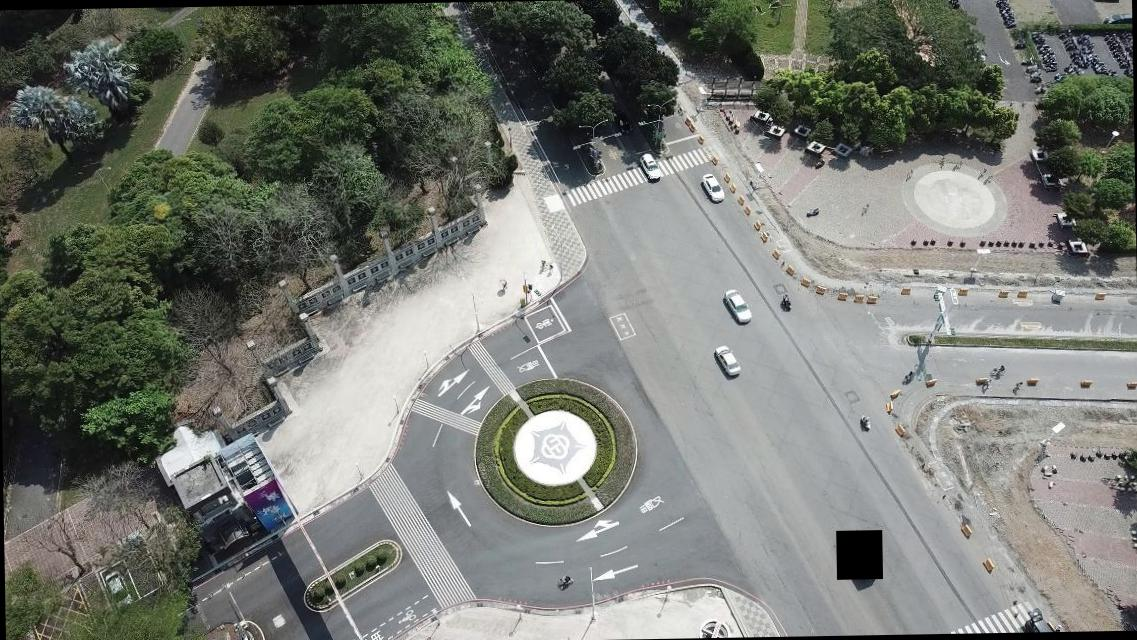vehicle: (102, 568, 136, 610), (722, 286, 754, 324), (714, 343, 740, 377), (701, 172, 725, 202), (640, 152, 663, 180), (1101, 12, 1131, 24), (1090, 0, 1123, 2)
